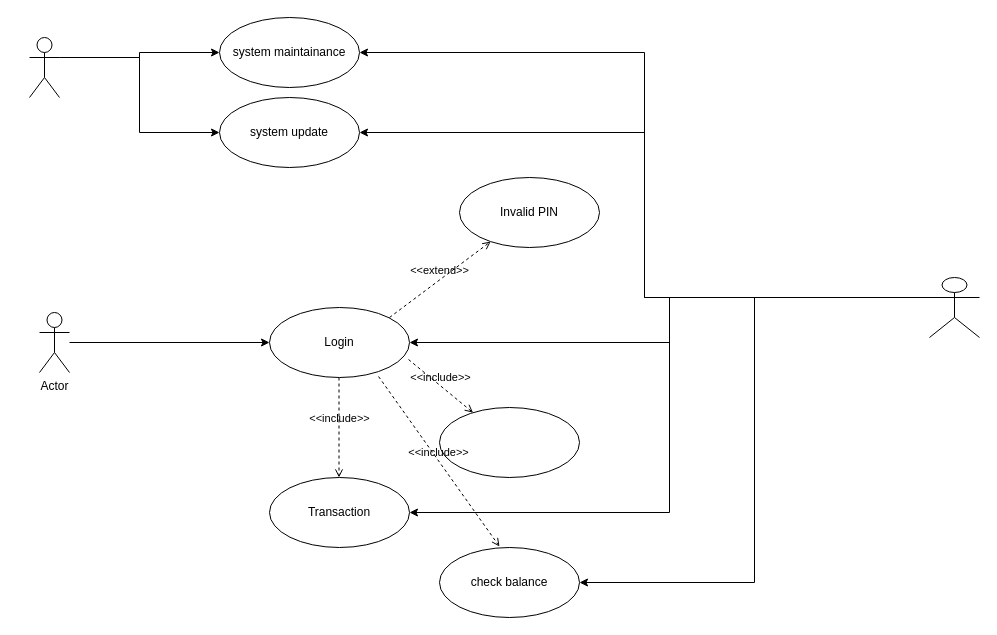
This 997x635 diagram has some shape labels left out. Here are the shapes that lost their labels. From the top down, the centre of each, then its label:
At point 44,67: "technician".
At point 954,307: "bank".
At point 509,442: "Change PIN".
